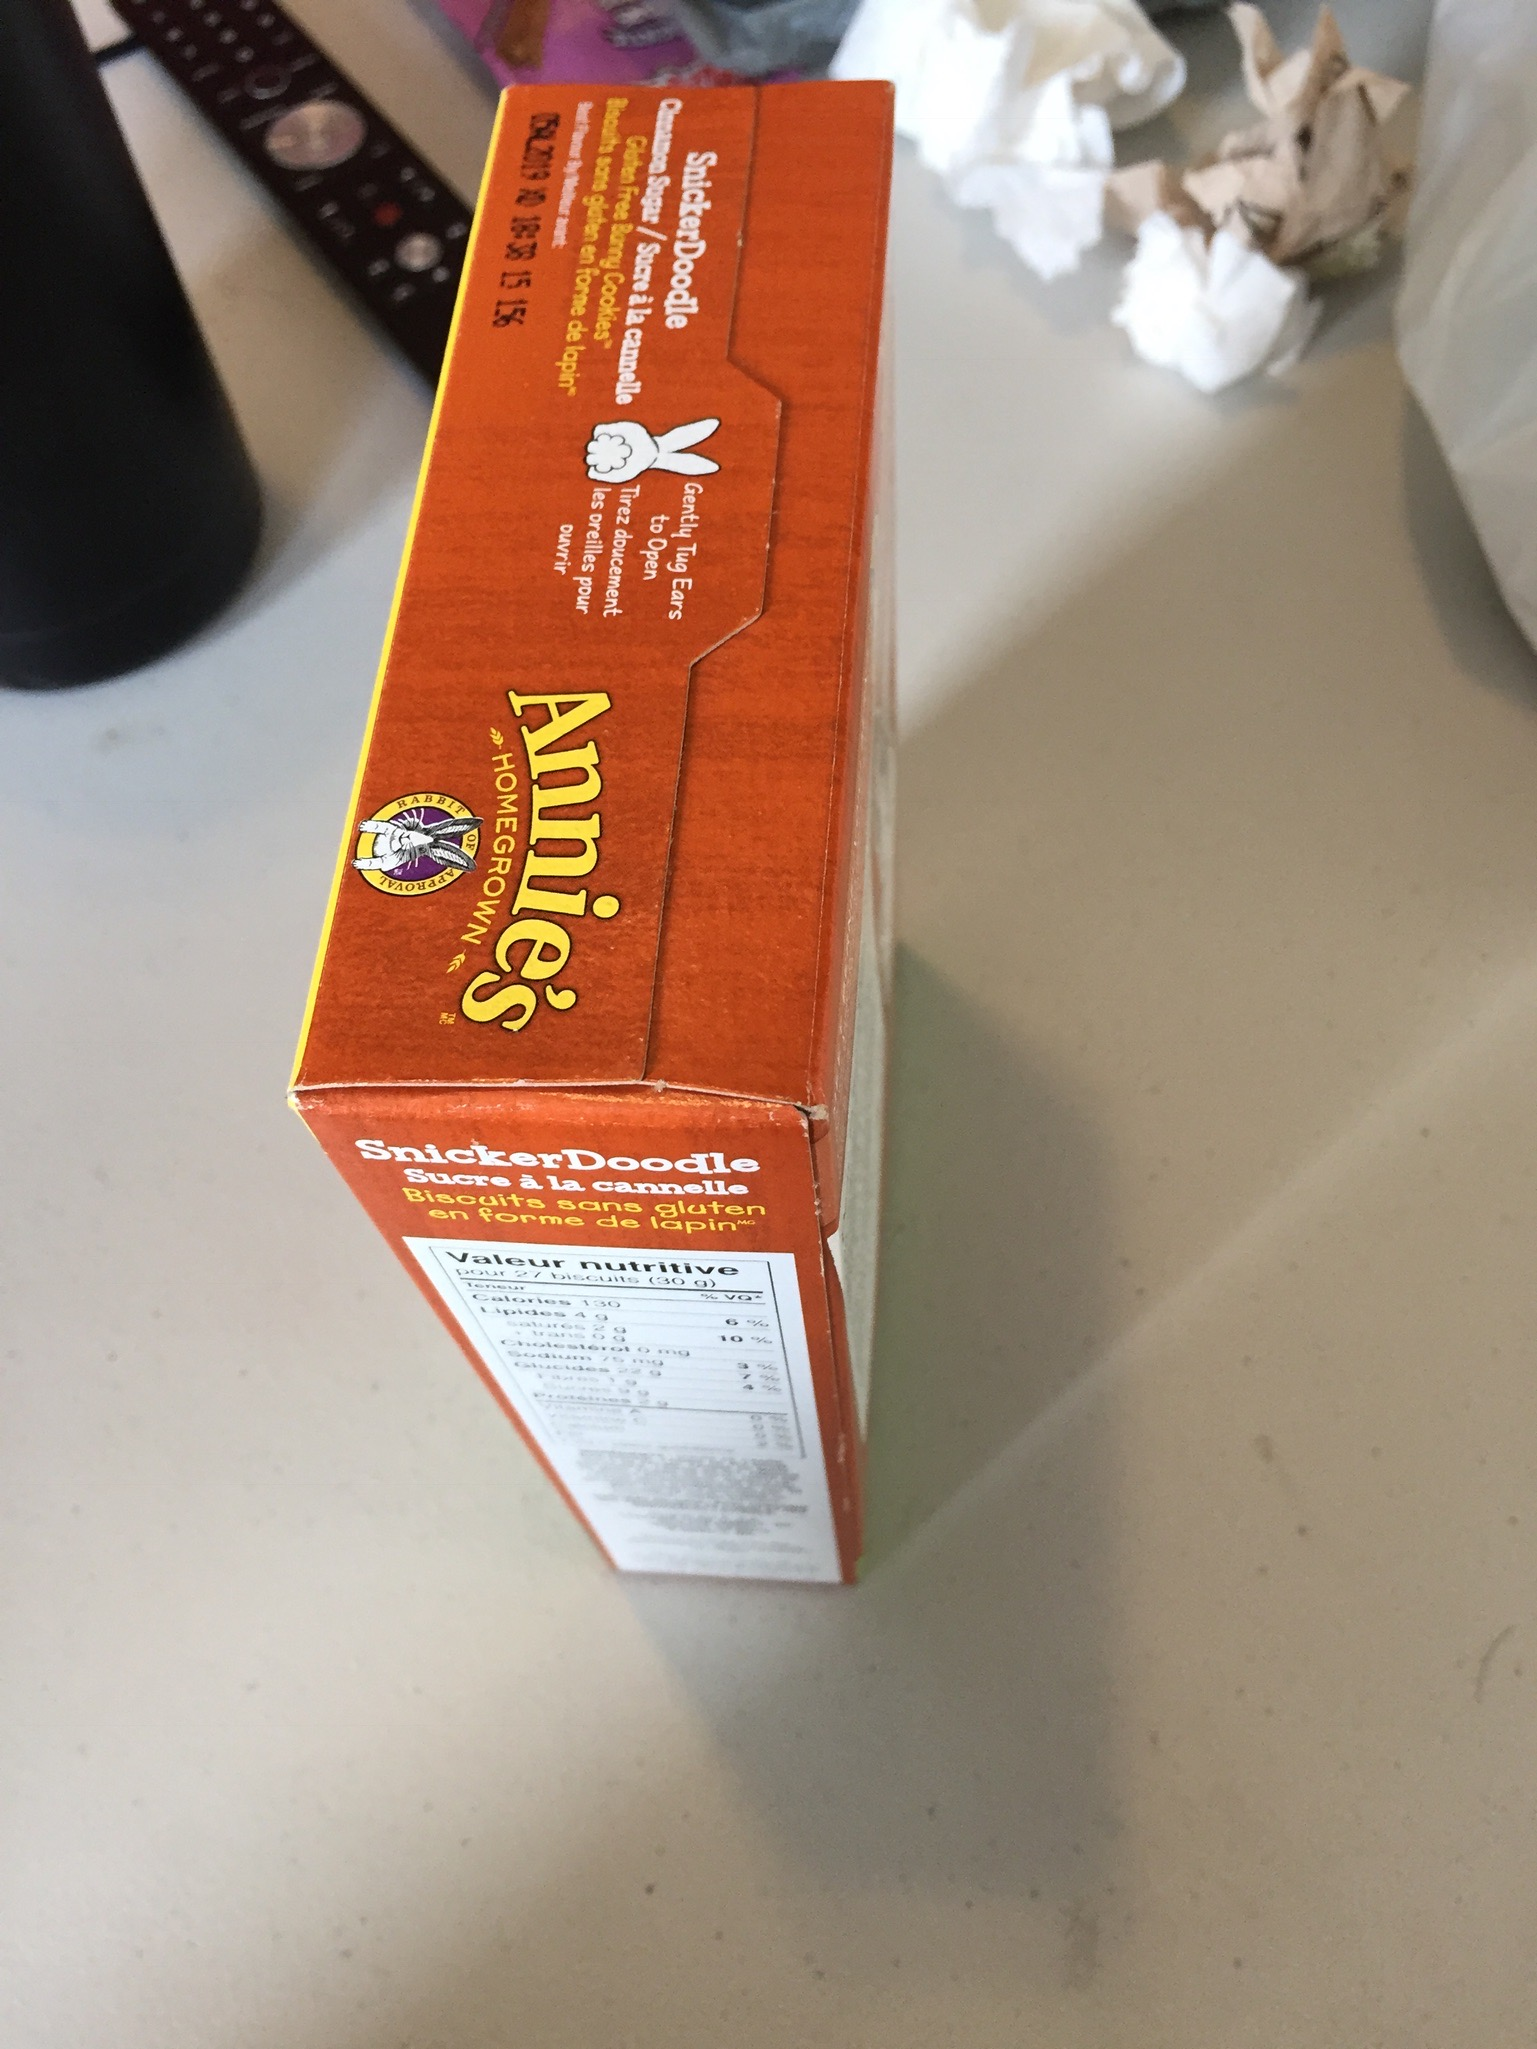annies_snickerdoodles_cinnamon_sugar: (341, 82, 919, 1590)
